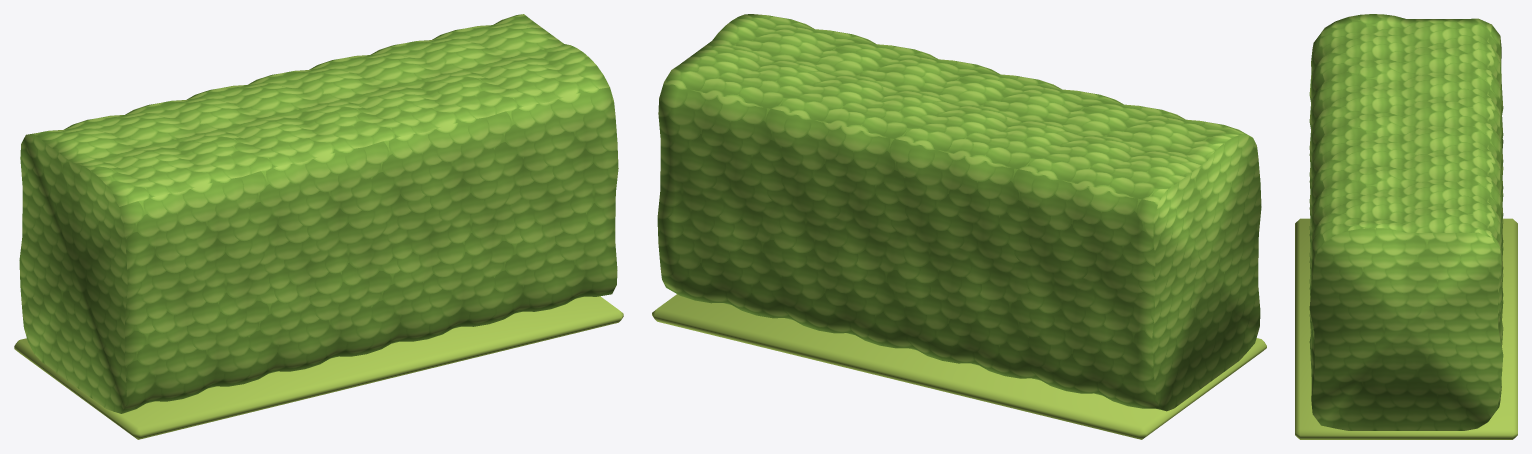
Rendered from hedge-long.glb.
The picture shows the model from 3 angles, left to right: view 1: azimuth 30°, elevation 25°; view 2: azimuth 150°, elevation 25°; view 3: azimuth 270°, elevation 25°; orthographic projection. The views are drawn at different scales.
Parts seen in each view (by area): view 1: body; view 2: body; view 3: body.
Boxes of the visible parts, box(x1,y1,x2,y2) form: body: box(14, 14, 623, 439); body: box(652, 14, 1266, 439); body: box(1295, 14, 1517, 439).
Bounding box in the file's own units: 2 × 0.9331 × 0.88.
2 materials, 1 textured.
